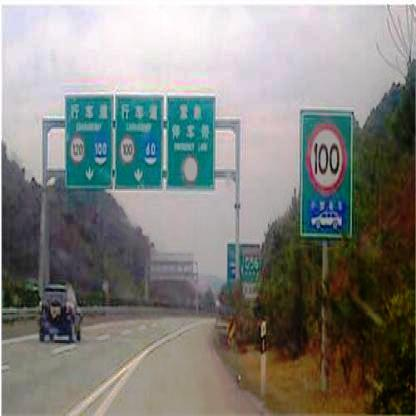Speed Limit -100-: (304, 121, 347, 196)
